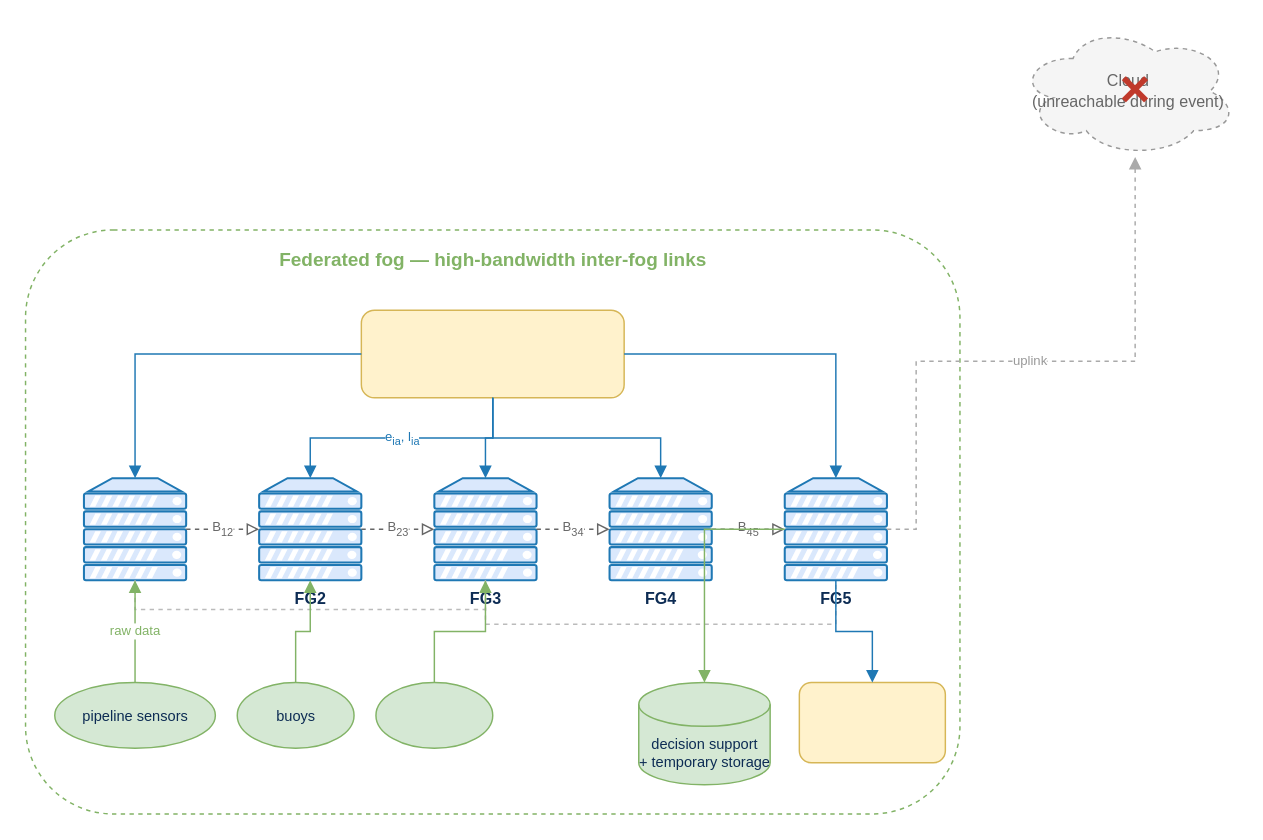
This 1263x840 diagram has some shape labels left out. The centre of each missing label's shape, as x and y in pixels:
"alerts & control (shutdowns, teams)" belongs at (x=871, y=722).
"Data-aware scheduler MILP · relaxation · greedy · GA" belongs at (x=492, y=353).
"drones" belongs at (x=433, y=714).
"FG1" belongs at (x=134, y=528).
